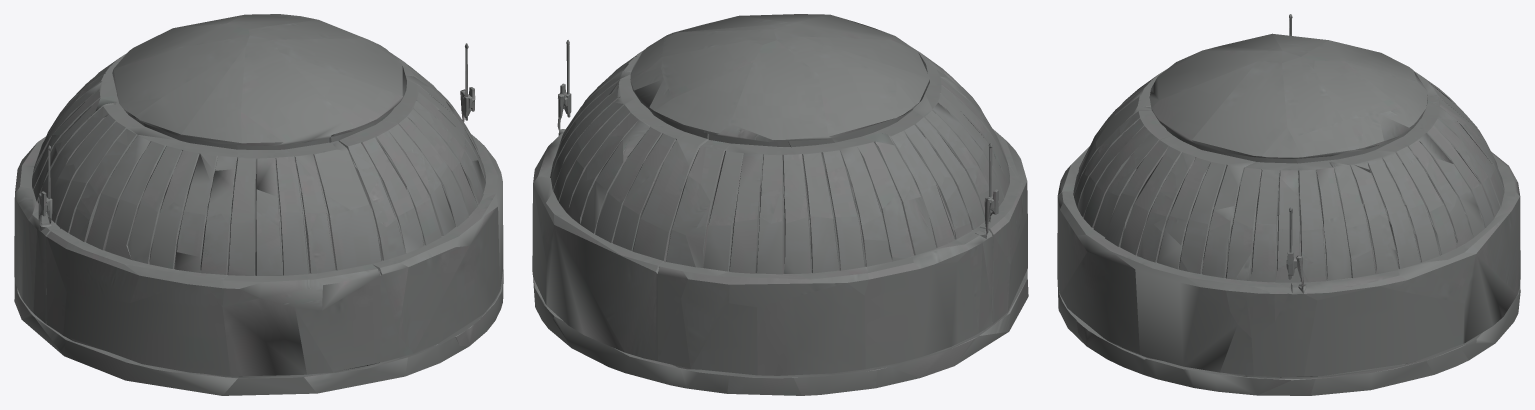
Rendered from nevarrodomehouse.lod1.glb.
The picture shows the model from 3 angles, left to right: view 1: azimuth 30°, elevation 25°; view 2: azimuth 150°, elevation 25°; view 3: azimuth 270°, elevation 25°; orthographic projection. The views are drawn at different scales.
Parts seen in each view (by area): view 1: nevarrodomehouse-centred; view 2: nevarrodomehouse-centred; view 3: nevarrodomehouse-centred.
Part boxes in pixels (x1,y1,x2,y2): nevarrodomehouse-centred: (14,14,503,395); nevarrodomehouse-centred: (532,14,1028,395); nevarrodomehouse-centred: (1057,14,1520,395).
Size of the model in its own units: 10 by 5.63 by 9.82.
1 material, 1 textured.
